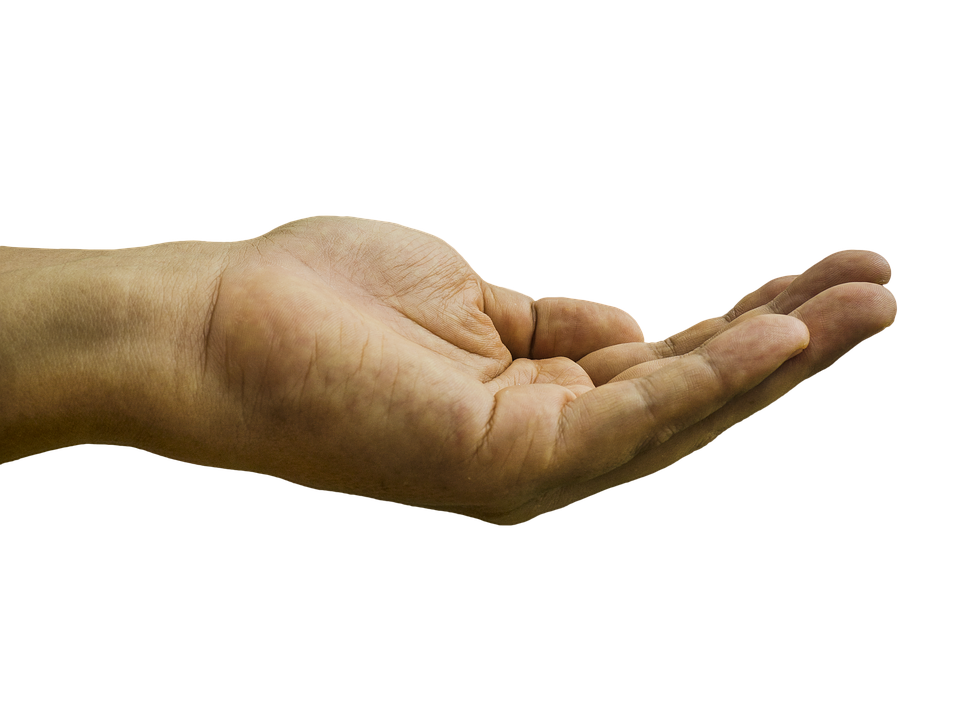hand: (179, 185, 922, 530)
